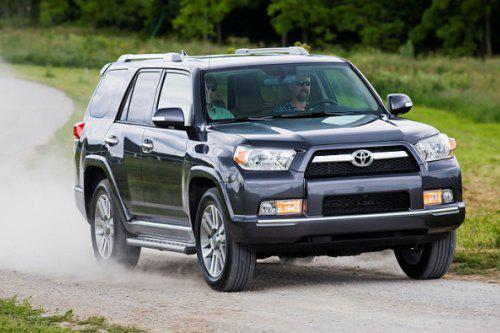Car: (63, 39, 479, 309)
